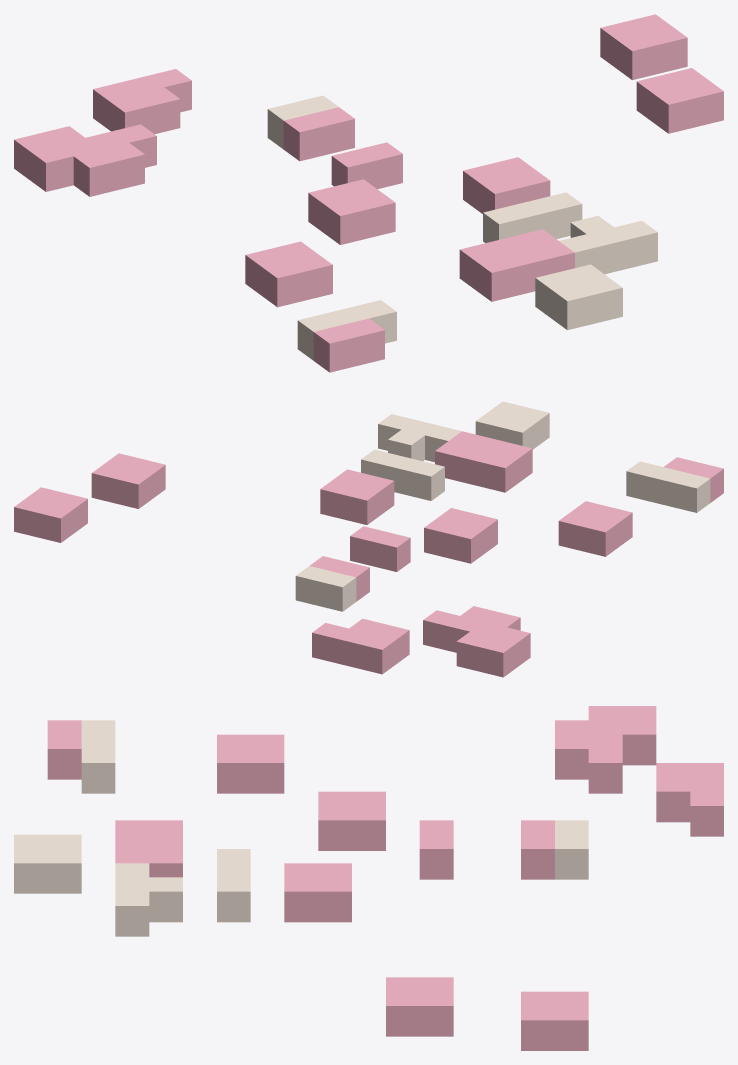
File: fallen_cherry_petals.glb
The picture shows the model from 3 angles, top to bottom: view 1: azimuth 30°, elevation 25°; view 2: azimuth 150°, elevation 25°; view 3: azimuth 270°, elevation 25°; orthographic projection. The views are drawn at different scales.
Size of the model in its own units: 0.9167 by 0.0417 by 0.875.
